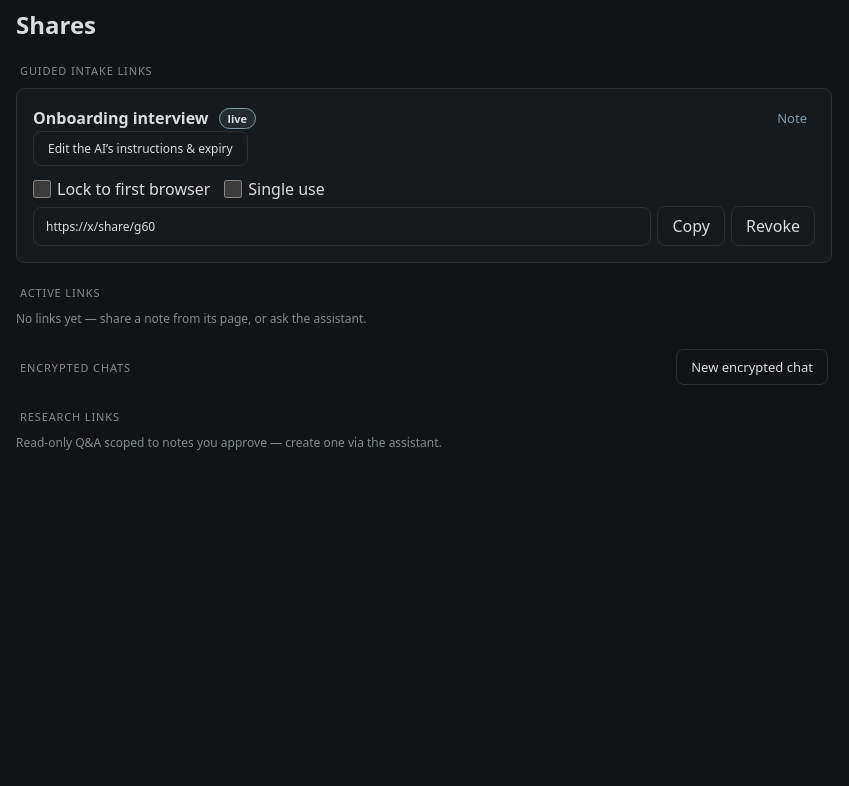
Test: SharesPage — guided link editor + options › edits the AI brief + expiry and saves via guided details
Expected: the text "Onboarding interview" is shown, [33,107,209,129]
# Expand the inline editor.
Click the button "Edit the AI’s instructions & expiry" at (140, 148), box [33,131,248,166]
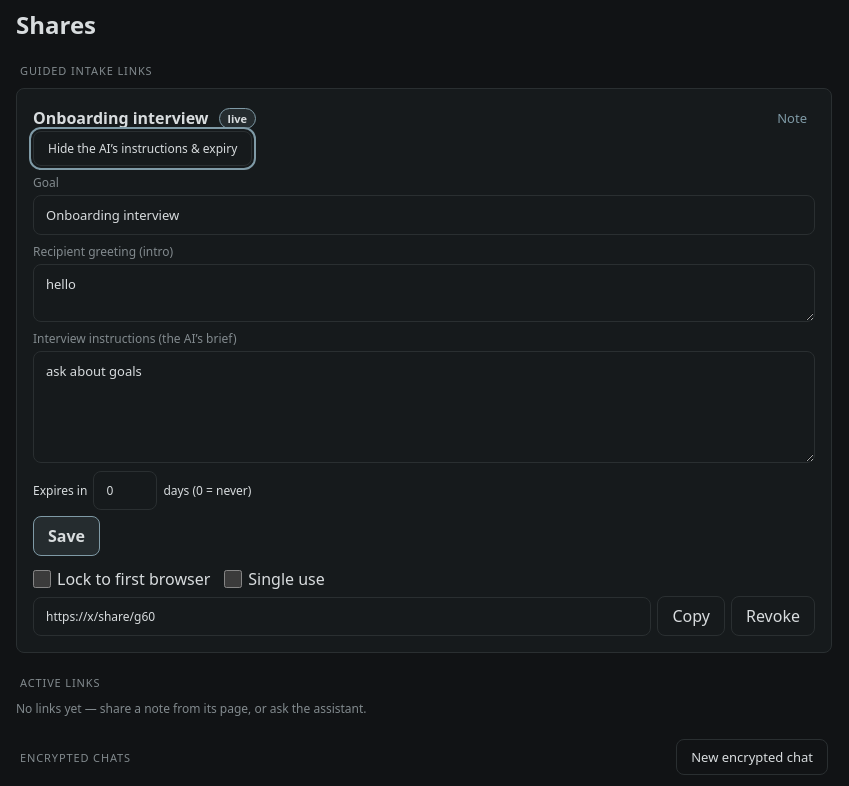
Expected: the field labelled "Goal" holds "Onboarding interview"
# Change the goal + the interview instructions, then Save.
Replace the text in the field labelled "Goal" with "Revised goal" at (424, 215), box [33,195,815,235]
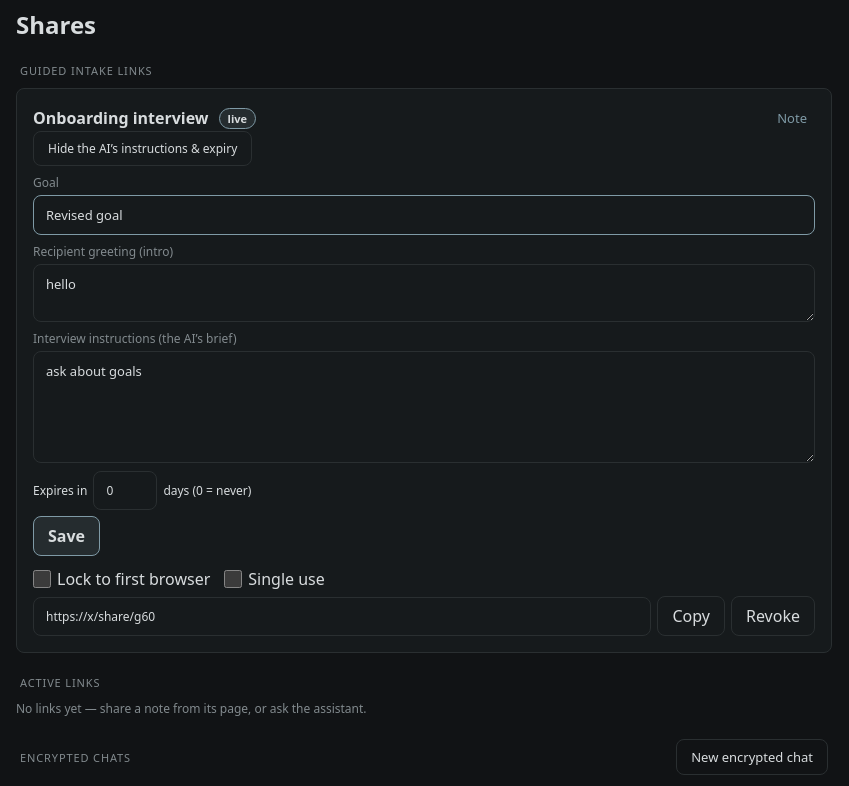
Replace the text in the text box labelled "Interview instructions (the AI’s brief)" with "new brief" at (424, 407), box [33,351,815,463]
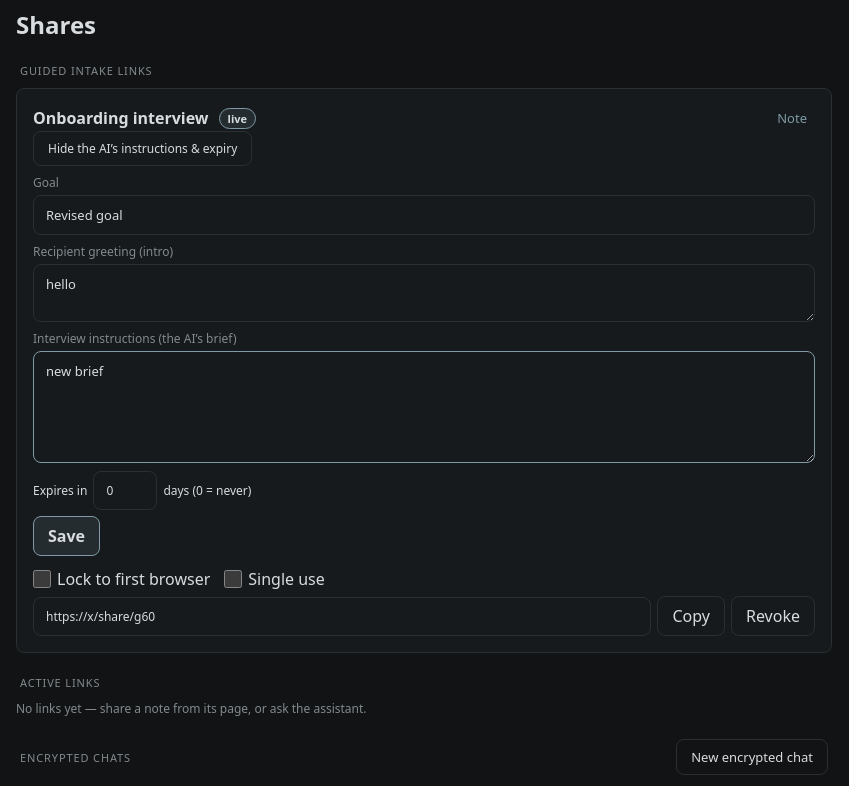
Click the button "Save" at (66, 536), box [33,516,100,556]
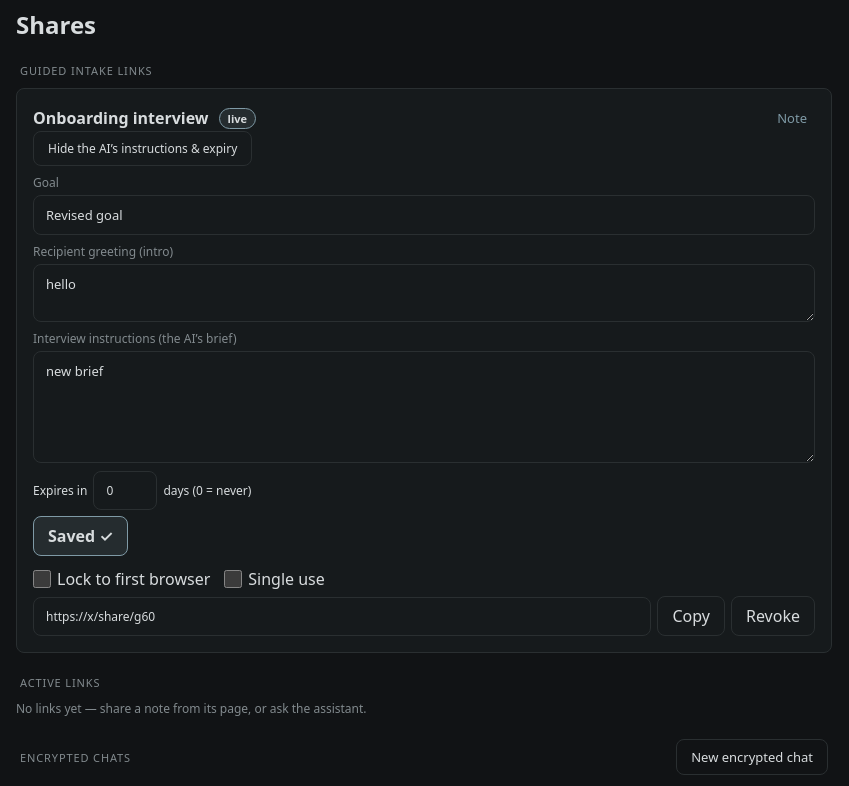
Expected: the button "Saved ✓" is shown, [33,516,128,556]
